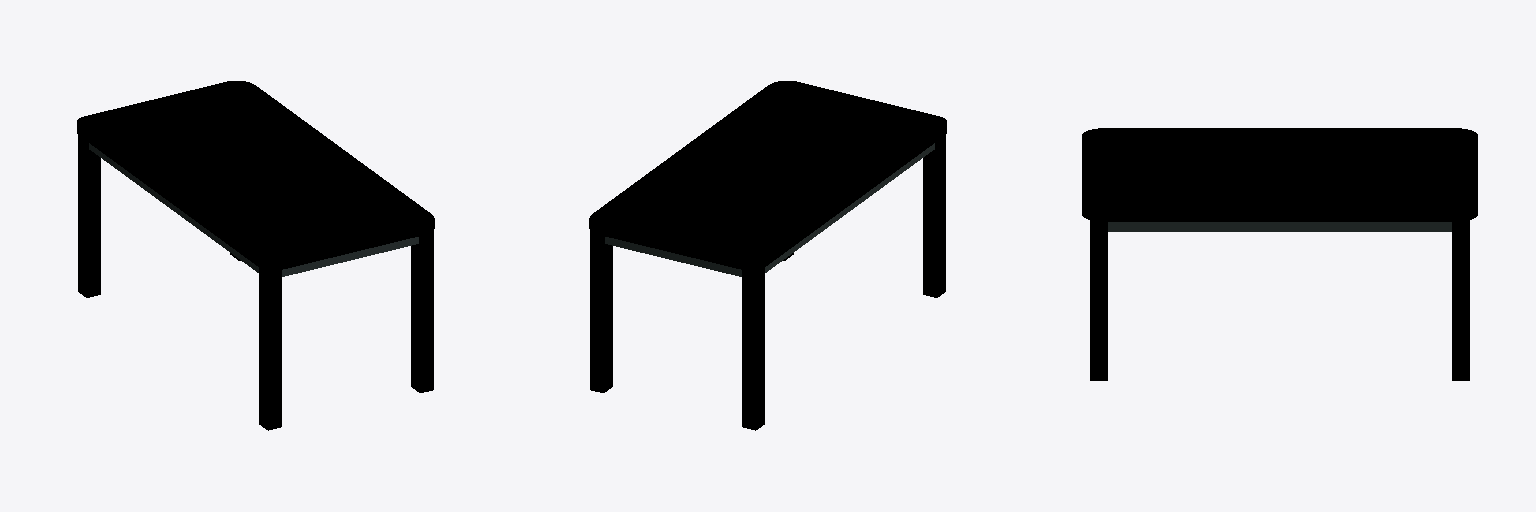
3 renders of one model, left to right at view 1: azimuth 30°, elevation 25°; view 2: azimuth 150°, elevation 25°; view 3: azimuth 270°, elevation 25°, orthographic.
Parts seen in each view (by area): view 1: Mesa:deskWorn; view 2: Mesa:deskWorn; view 3: Mesa:deskWorn.
Boxes of the visible parts, <box> form: Mesa:deskWorn: <box>77,81,434,430</box>; Mesa:deskWorn: <box>589,81,946,430</box>; Mesa:deskWorn: <box>1082,128,1477,380</box>.
Size of the model in its own units: 0.8253 by 0.7627 by 1.61.
2 materials, 1 textured.